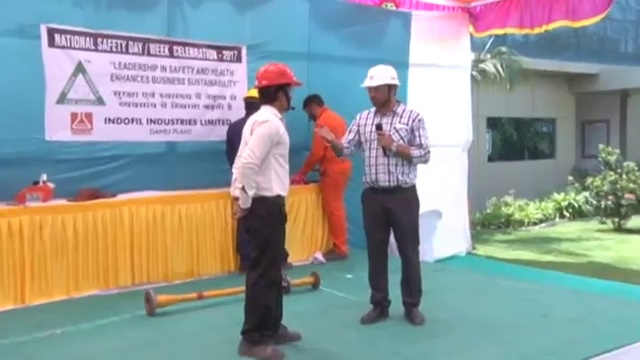helmet: (253, 61, 306, 88), (359, 62, 403, 90), (241, 87, 263, 103)
helmet_off: (301, 92, 326, 122)
helmet_on: (253, 61, 305, 115), (359, 61, 404, 117), (239, 86, 265, 121)
person: (322, 59, 431, 329), (231, 60, 302, 359), (296, 90, 350, 261), (224, 85, 265, 169)
